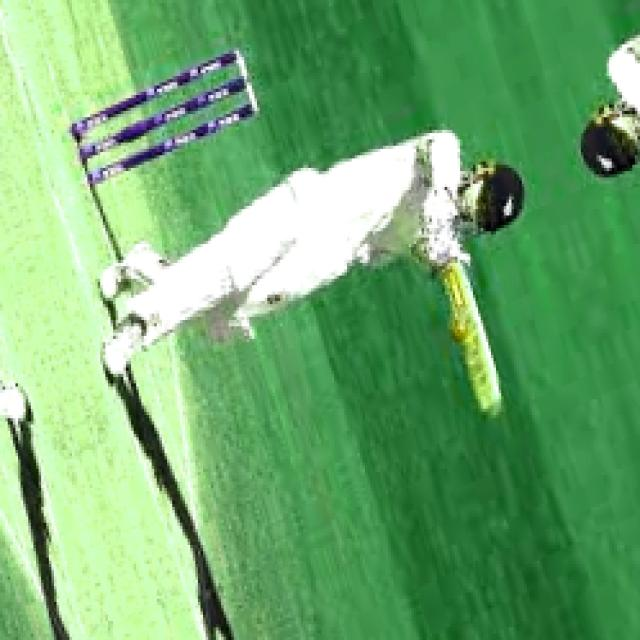toe: (472, 374, 506, 426)
